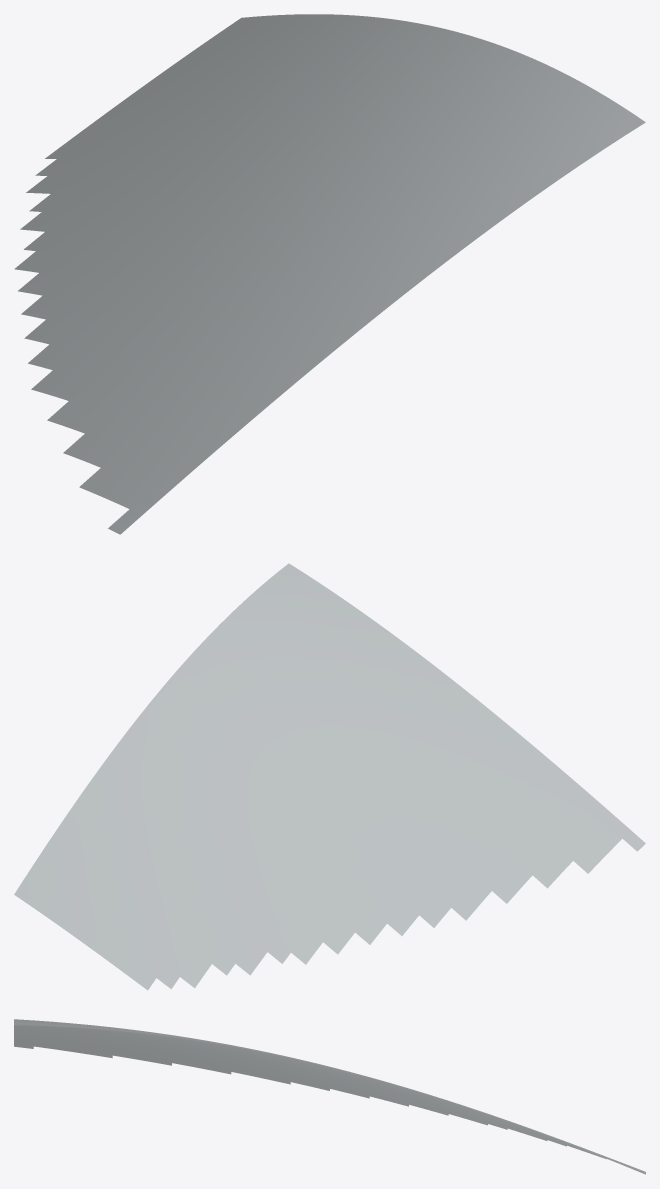
Rendered from alpine-8-1.glb.
The picture shows the model from 3 angles, top to bottom: view 1: azimuth 30°, elevation 25°; view 2: azimuth 150°, elevation 25°; view 3: azimuth 270°, elevation 25°; orthographic projection. The views are drawn at different scales.
Visible parts, largest first — view 1: alpine-8-1; view 2: alpine-8-1; view 3: alpine-8-1.
Boxes of the visible parts, <box> form: alpine-8-1: <box>14,14,645,534</box>; alpine-8-1: <box>14,563,645,990</box>; alpine-8-1: <box>14,1019,645,1174</box>.
Bounding box in the file's own units: 192 × 101 × 256.
Materials: 1 (1 with a texture image).
